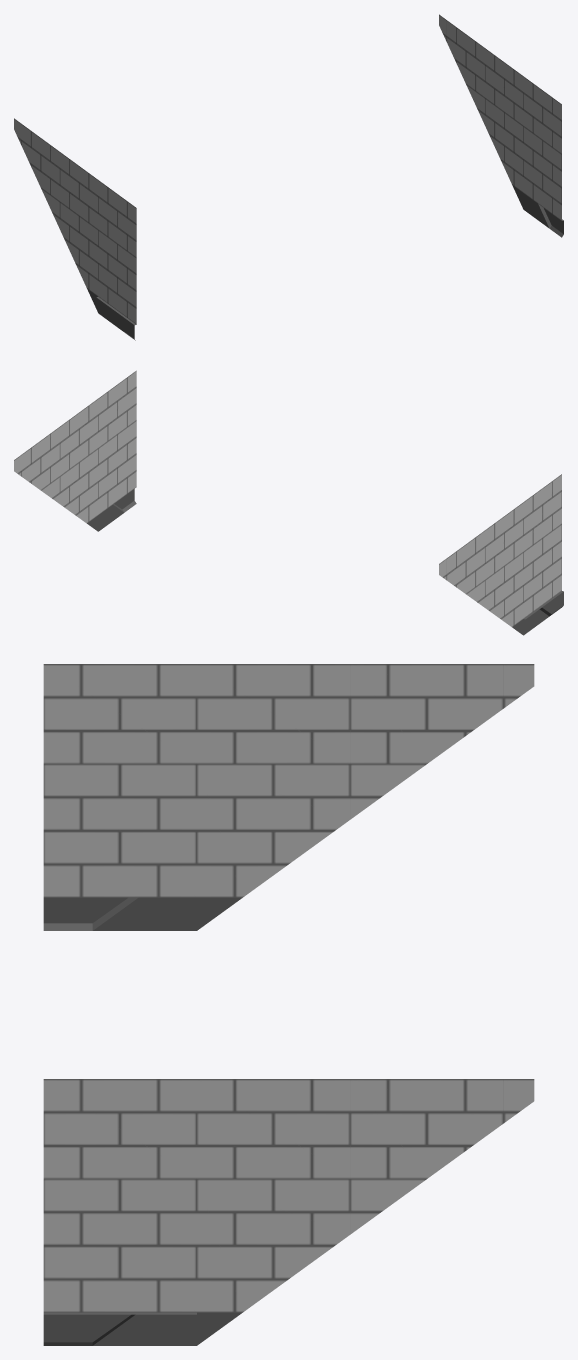
The model's file is SW_ENV_StationStair_Short_Surround_Lower_FF.fbx.
3 renders of one model, top to bottom at view 1: azimuth 30°, elevation 25°; view 2: azimuth 150°, elevation 25°; view 3: azimuth 270°, elevation 25°, orthographic. The views are drawn at different scales.
Visible parts, largest first — view 1: SW_ENV_StationStair_Short_Surround_Lower_FF; view 2: SW_ENV_StationStair_Short_Surround_Lower_FF; view 3: SW_ENV_StationStair_Short_Surround_Lower_FF.
Boxes of the visible parts, <box> form: SW_ENV_StationStair_Short_Surround_Lower_FF: <box>14,14,563,340</box>; SW_ENV_StationStair_Short_Surround_Lower_FF: <box>14,370,563,635</box>; SW_ENV_StationStair_Short_Surround_Lower_FF: <box>43,664,534,1345</box>.
Size of the model in its own units: 404 by 120 by 200.
